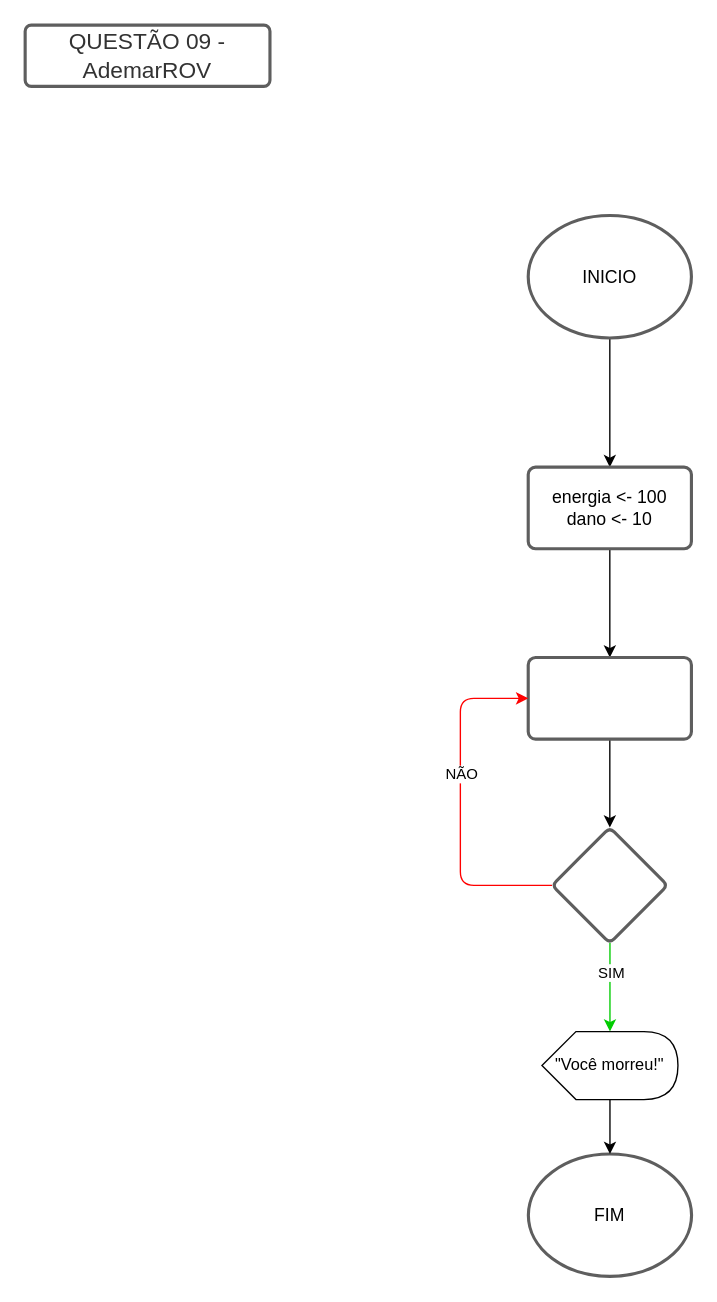
This 717x1302 diagram has some shape labels left out. Here are the shapes that lost their labels. From the top down, the centre of each, then its label:
point (609, 697): energia <- energia - dano
point (609, 884): energia <= 0
